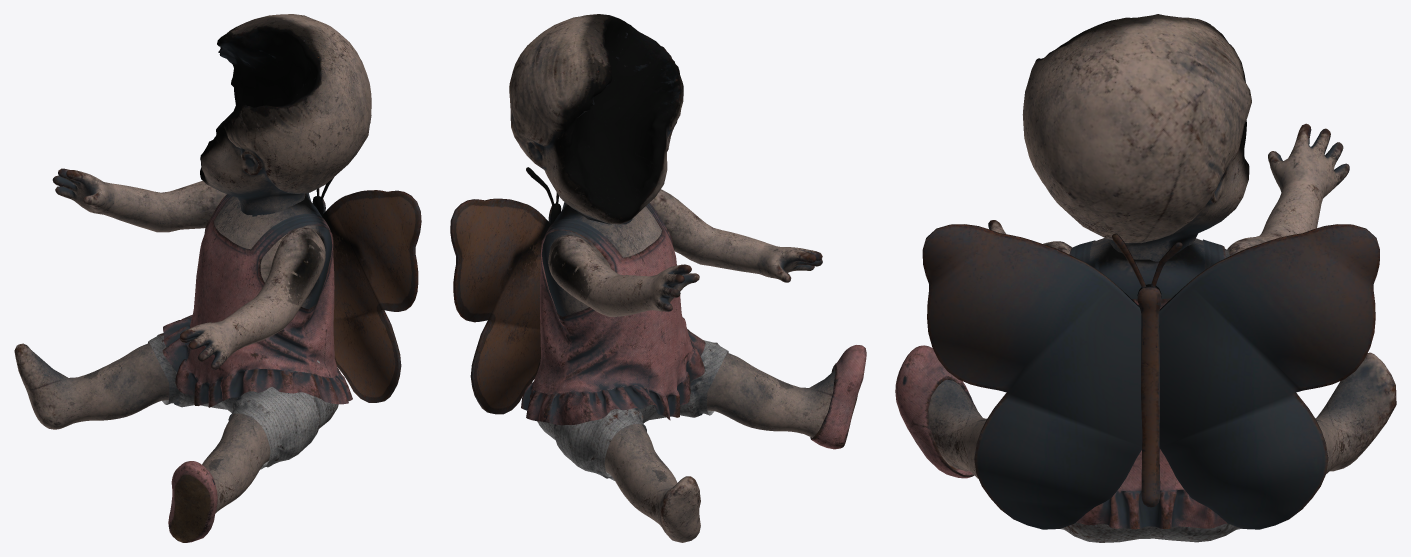
Rendered from SM_BurnedDoll_3.fbx.
3 views of the same model, side by side, from view 1: azimuth 30°, elevation 25°; view 2: azimuth 150°, elevation 25°; view 3: azimuth 270°, elevation 25° (orthographic). The views are drawn at different scales.
Visible parts, largest first — view 1: SM_BurnedDoll_3; view 2: SM_BurnedDoll_3; view 3: SM_BurnedDoll_3.
Part boxes in pixels (x1=…): SM_BurnedDoll_3: x1=14, y1=14, x2=421, y2=542; SM_BurnedDoll_3: x1=450, y1=14, x2=866, y2=542; SM_BurnedDoll_3: x1=895, y1=14, x2=1396, y2=542.
Bounding box in the file's own units: 14.77 × 18.42 × 22.9.
Materials: 1 (1 with a texture image).
